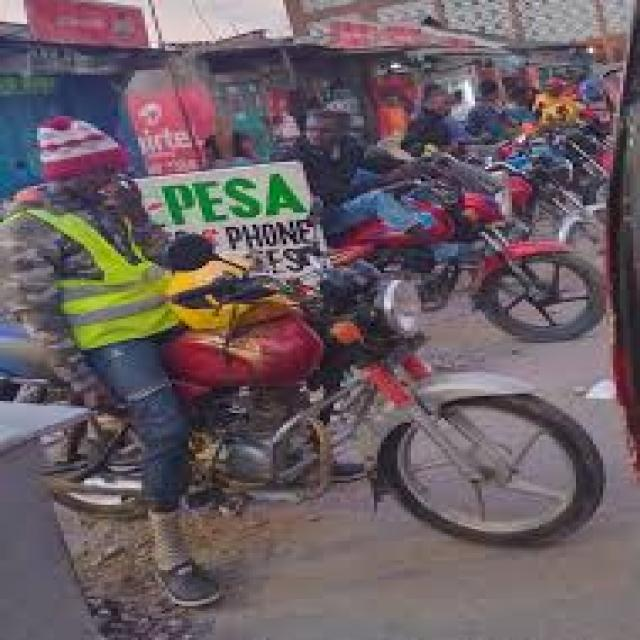bodaboda: (0, 222, 620, 640)
